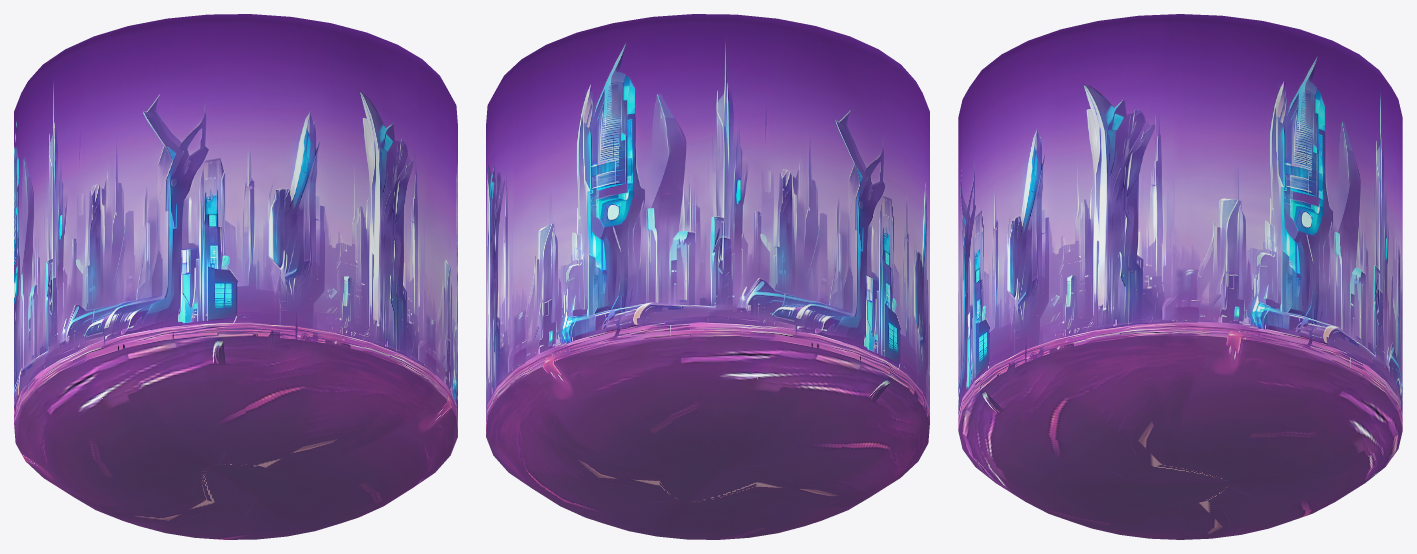
The model's file is futuristic_city_pano.glb.
3 renders of one model, left to right at view 1: azimuth 30°, elevation 25°; view 2: azimuth 150°, elevation 25°; view 3: azimuth 270°, elevation 25°, orthographic.
Visible parts, largest first — view 1: Cylinder_0; view 2: Cylinder_0; view 3: Cylinder_0.
Part boxes in pixels (bbox=[...]): Cylinder_0: bbox=[14, 14, 457, 539]; Cylinder_0: bbox=[486, 14, 929, 539]; Cylinder_0: bbox=[958, 14, 1402, 539].
Size of the model in its own units: 179 by 174 by 179.
1 material, 1 textured.
